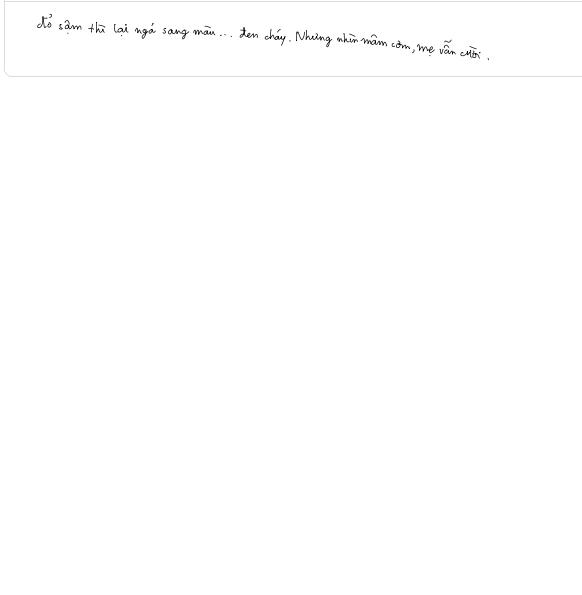text: (32, 11, 494, 63)
